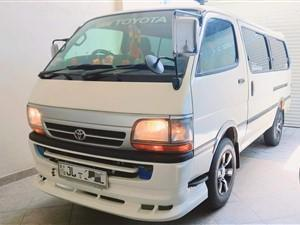car: (21, 6, 291, 221)
